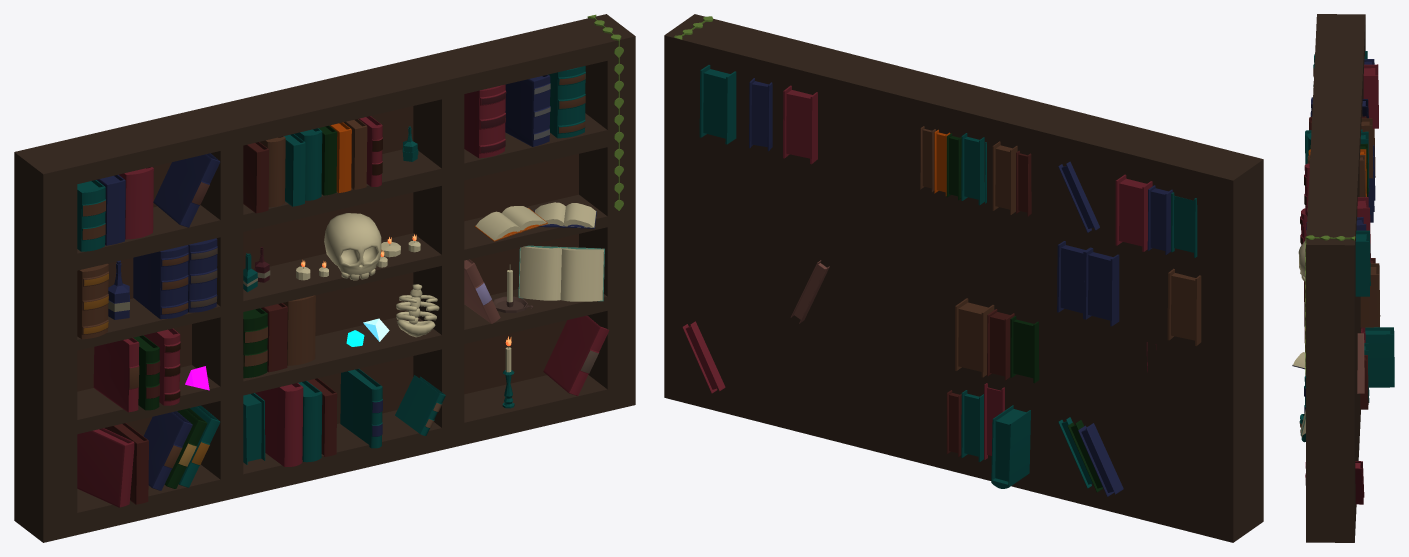
File: Library 3 Full.fbx
3 views of the same model, side by side, from view 1: azimuth 30°, elevation 25°; view 2: azimuth 150°, elevation 25°; view 3: azimuth 270°, elevation 25° (orthographic). The views are drawn at different scales.
Visible parts, largest first — view 1: Library 3.002, Book 1.001, Libro .025, Libro.006, body_head, Libro.011, Libro .035, Libro.002, Libro.004, Libro .021, Libro .008, Libro .024 (+33 smaller); view 2: Library 3.002, Libro .036, Libro .007, Libro.006, Libro .008, Libro .010, Libro.007, Libro, Libro.005, Libro .011, Libro.004, Libro .013 (+15 smaller); view 3: Library 3.002, Libro .036, Libro .007, Libro .010, Libro, Libro .006, Libro.011, Libro .008, Libro .013, Edera 1.003, Libro .017, Libro .023 (+8 smaller).
Boxes of the visible parts, x1,y1,x2,y2 form: Library 3.002: (14, 14, 635, 542); Book 1.001: (518, 245, 604, 301); Libro .025: (77, 428, 134, 507); Libro.006: (133, 245, 188, 319); body_head: (324, 213, 381, 280); Libro.011: (543, 315, 609, 395); Libro .035: (255, 383, 303, 466); Libro.002: (153, 153, 220, 227); Libro.004: (505, 74, 550, 146); Libro .021: (93, 338, 139, 412); Libro .008: (464, 84, 506, 158); Libro .024: (340, 368, 382, 448); Library 3.002: (664, 14, 1263, 542); Libro .036: (991, 405, 1030, 488); Libro .007: (699, 65, 736, 144); Libro.006: (1084, 248, 1119, 326); Libro .008: (783, 85, 817, 164); Libro .010: (955, 298, 994, 377); Libro.007: (1167, 268, 1201, 346); Libro: (1115, 174, 1152, 251); Libro.005: (1057, 241, 1091, 319); Libro .011: (1010, 316, 1039, 383); Libro.004: (749, 78, 772, 151); Libro .013: (992, 141, 1017, 214); Library 3.002: (1306, 14, 1365, 542); Libro .036: (1365, 327, 1394, 387); Libro .007: (1355, 230, 1370, 296); Libro .010: (1360, 263, 1380, 327); Libro: (1363, 64, 1378, 128); Libro .006: (1357, 333, 1364, 393); Libro.011: (1305, 461, 1364, 504); Libro .008: (1306, 197, 1370, 262); Libro .013: (1311, 118, 1373, 178); Edera 1.003: (1305, 235, 1355, 375); Libro .017: (1307, 155, 1365, 197); Libro .023: (1360, 355, 1368, 409).
Bounding box in the file's own units: 784 × 473 × 147.
